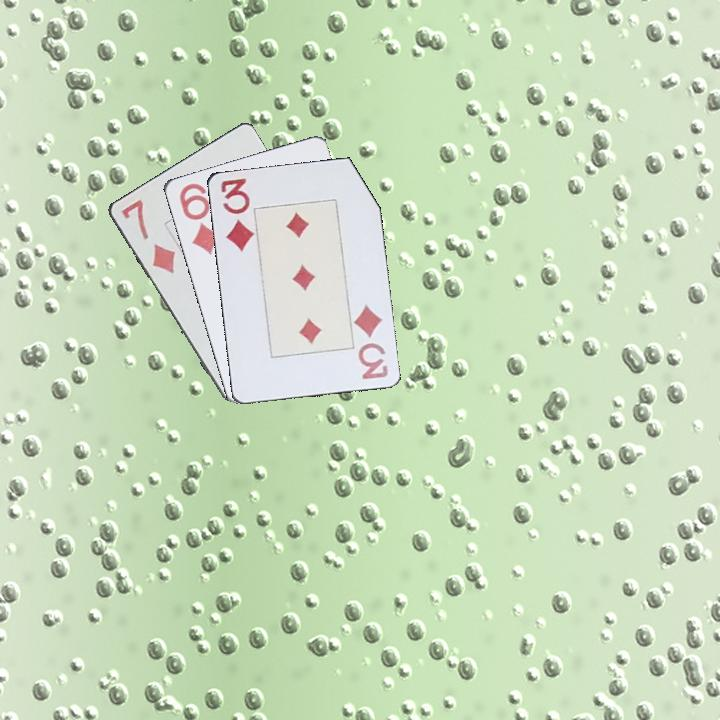3d: (350, 300, 391, 382), (217, 174, 256, 254)
6d: (175, 179, 222, 258)
7d: (118, 196, 178, 277)
